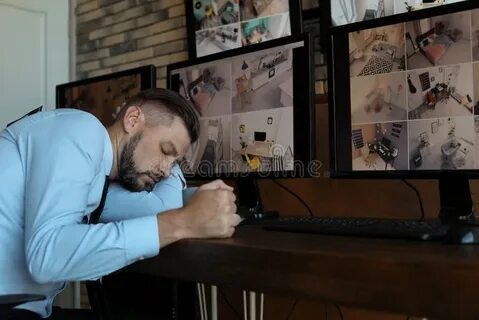sleep: (1, 87, 241, 319)
